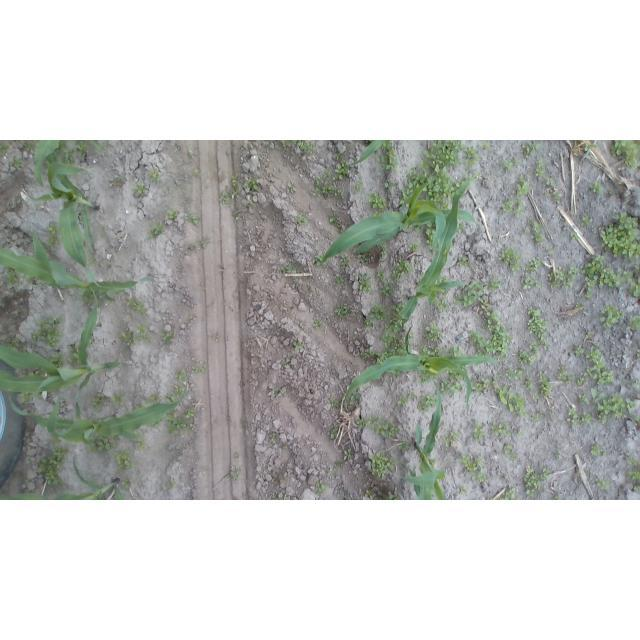Maize: (320, 180, 479, 265), (1, 287, 122, 398), (344, 326, 497, 412), (398, 173, 474, 327), (0, 232, 154, 303), (4, 393, 189, 444), (33, 155, 103, 270), (401, 379, 447, 500), (0, 458, 126, 500), (35, 140, 62, 189), (349, 140, 383, 166), (404, 463, 421, 497), (90, 141, 105, 151)
Weeds: (398, 165, 455, 208), (580, 255, 634, 300), (474, 296, 511, 359), (599, 211, 640, 259), (508, 337, 548, 379), (590, 388, 634, 423), (586, 346, 615, 390), (421, 141, 461, 172), (37, 447, 68, 485), (30, 317, 64, 350), (355, 415, 402, 438), (313, 168, 343, 199), (610, 140, 640, 170), (497, 384, 525, 416), (523, 466, 549, 499), (367, 452, 397, 480), (547, 264, 578, 289), (388, 259, 415, 286), (449, 283, 481, 305), (382, 304, 406, 331), (500, 244, 523, 272), (112, 449, 136, 474), (565, 406, 592, 428), (601, 305, 626, 328), (378, 141, 397, 171), (419, 345, 466, 357), (534, 370, 554, 398), (526, 307, 547, 333), (525, 217, 543, 243), (446, 372, 466, 394), (166, 410, 186, 432), (460, 456, 484, 473), (471, 419, 487, 444), (368, 192, 389, 211), (386, 334, 405, 355), (500, 201, 524, 217), (129, 296, 149, 315), (490, 421, 512, 438), (463, 146, 479, 169), (417, 394, 435, 414), (423, 324, 445, 340), (89, 439, 112, 454), (146, 221, 166, 238), (558, 366, 575, 386), (516, 174, 531, 195), (471, 376, 488, 394), (522, 274, 541, 290), (295, 141, 315, 156), (370, 304, 388, 320), (45, 222, 57, 246), (444, 429, 460, 447), (503, 158, 522, 173), (522, 141, 539, 157), (335, 161, 350, 179), (358, 274, 373, 292), (362, 351, 384, 363), (534, 160, 547, 180), (135, 324, 151, 340), (4, 268, 16, 289), (523, 258, 542, 271), (287, 180, 302, 196), (350, 387, 362, 406), (335, 303, 350, 318), (110, 392, 126, 406), (436, 299, 450, 315), (500, 488, 518, 500), (219, 186, 233, 201), (503, 445, 516, 461), (352, 180, 365, 196), (110, 176, 127, 188), (64, 147, 76, 164), (425, 224, 435, 244), (92, 393, 105, 408), (268, 389, 287, 399), (146, 392, 163, 403), (456, 254, 470, 267), (588, 182, 602, 195), (523, 377, 534, 393), (133, 183, 147, 195), (313, 483, 328, 494), (630, 316, 640, 332), (314, 254, 327, 266), (295, 213, 307, 226), (134, 439, 147, 451), (380, 284, 393, 296), (572, 343, 584, 356), (247, 178, 259, 191), (187, 213, 201, 224), (232, 175, 241, 192), (629, 283, 639, 298), (465, 171, 483, 179), (282, 265, 298, 274), (68, 351, 79, 364), (77, 141, 88, 154), (597, 479, 610, 490), (487, 279, 501, 289), (455, 486, 469, 496), (583, 141, 597, 151), (590, 445, 600, 459), (330, 397, 339, 412), (52, 355, 64, 366), (122, 479, 134, 490), (6, 336, 17, 348), (0, 142, 10, 155), (335, 274, 348, 284), (579, 392, 589, 405), (342, 448, 352, 461), (20, 393, 33, 403), (625, 458, 639, 467), (396, 396, 408, 406), (493, 373, 501, 388), (375, 270, 385, 282), (532, 414, 545, 423), (199, 238, 212, 247), (10, 159, 23, 168), (420, 373, 429, 386), (120, 327, 128, 341), (629, 471, 640, 481), (380, 245, 391, 255), (168, 209, 179, 219), (477, 472, 488, 482), (517, 427, 528, 437), (340, 256, 350, 267), (150, 169, 162, 178), (547, 177, 556, 189), (585, 330, 595, 340), (293, 340, 303, 350), (554, 449, 563, 460), (582, 216, 591, 227), (363, 318, 374, 327), (331, 427, 338, 441), (191, 366, 205, 373), (126, 338, 138, 346), (458, 220, 466, 232), (166, 396, 178, 404), (283, 353, 292, 363), (246, 195, 255, 205), (365, 490, 374, 500), (185, 410, 195, 419), (570, 231, 578, 242), (399, 445, 410, 453), (172, 387, 184, 394), (326, 468, 335, 477), (329, 215, 338, 224), (385, 182, 394, 191), (161, 332, 171, 340), (133, 400, 143, 408), (23, 141, 33, 149), (632, 484, 640, 494), (175, 369, 181, 382), (388, 494, 401, 500), (270, 433, 277, 444), (230, 470, 239, 478), (313, 322, 322, 330), (212, 335, 221, 343), (577, 377, 584, 387), (279, 141, 293, 146), (545, 249, 554, 256), (277, 491, 286, 498), (410, 245, 419, 252), (440, 276, 449, 283), (441, 289, 451, 295), (167, 479, 173, 489), (480, 142, 488, 149), (188, 151, 196, 158), (306, 285, 314, 292), (332, 152, 341, 158), (235, 212, 241, 220), (555, 494, 563, 500), (635, 414, 640, 423), (292, 278, 301, 283), (193, 168, 200, 174), (335, 462, 343, 467), (575, 302, 580, 306)
